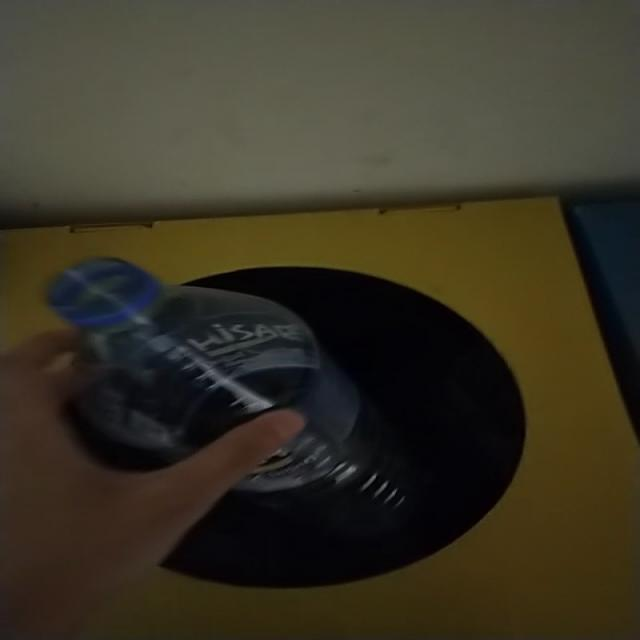plastic: (47, 259, 411, 526)
